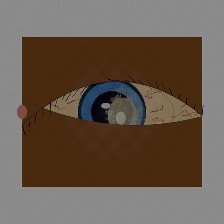corneal_ulcer: (93, 92, 153, 140)
